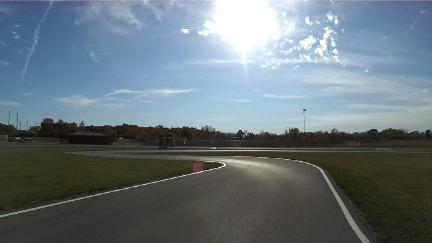Grass: (165, 152, 431, 242), (0, 145, 221, 211), (361, 141, 431, 147), (32, 137, 68, 143), (392, 147, 431, 151)
Lane: (0, 152, 360, 242), (128, 151, 142, 152), (146, 151, 148, 152)
